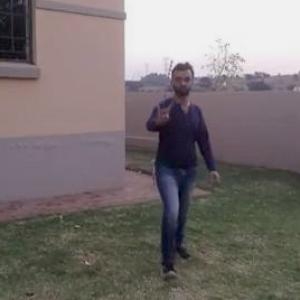takeoff-hand: (148, 93, 176, 130)
